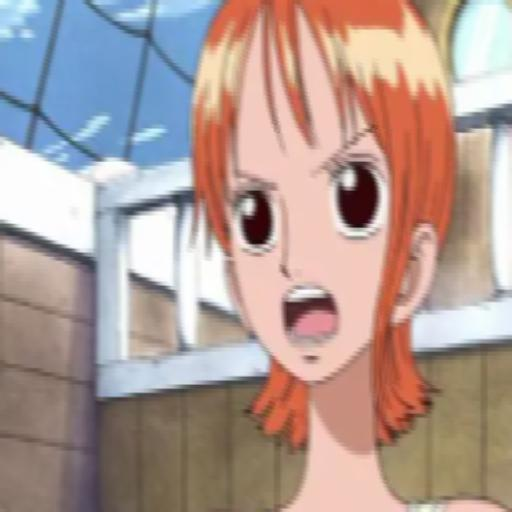Nami: (155, 0, 512, 512)
